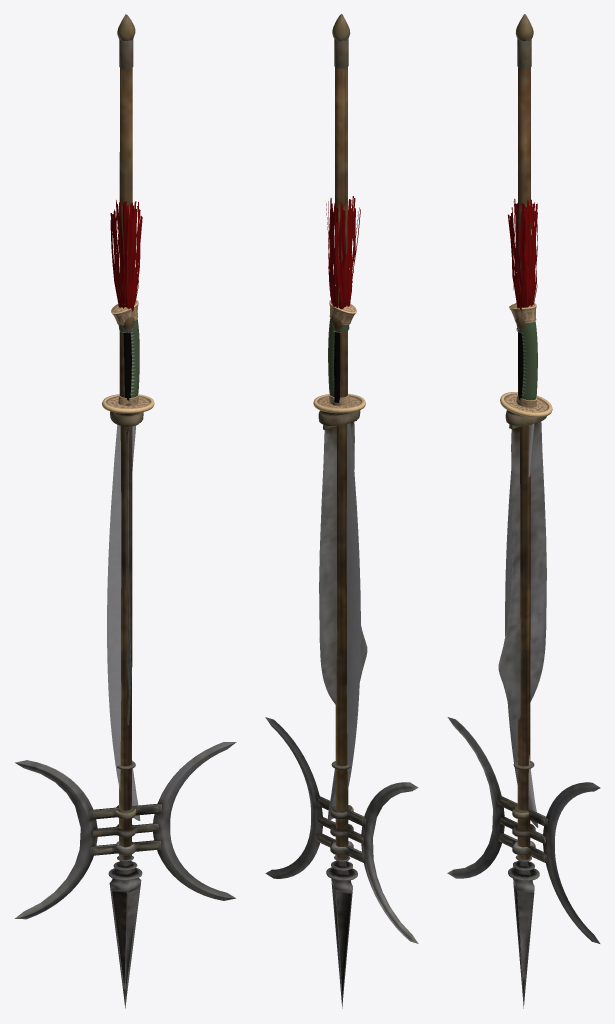
The model's file is armes.74a2083d47.glb.
3 views of the same model, side by side, from view 1: azimuth 30°, elevation 25°; view 2: azimuth 150°, elevation 25°; view 3: azimuth 330°, elevation 25° (orthographic).
Visible parts, largest first — view 1: lance, liuye, dao; view 2: lance, dao, liuye; view 3: lance, dao, liuye.
Boxes of the visible parts, bbox=[...] form: lance: bbox=[14, 14, 236, 1008]; liuye: bbox=[102, 300, 154, 820]; dao: bbox=[110, 200, 143, 724]; lance: bbox=[265, 14, 418, 1008]; dao: bbox=[318, 196, 367, 705]; liuye: bbox=[313, 300, 365, 820]; lance: bbox=[447, 14, 600, 1008]; dao: bbox=[498, 198, 546, 723]; liuye: bbox=[500, 303, 552, 827].
Size of the model in its own units: 0.3756 by 1.9 by 0.1187.
3 materials, 3 textured.
